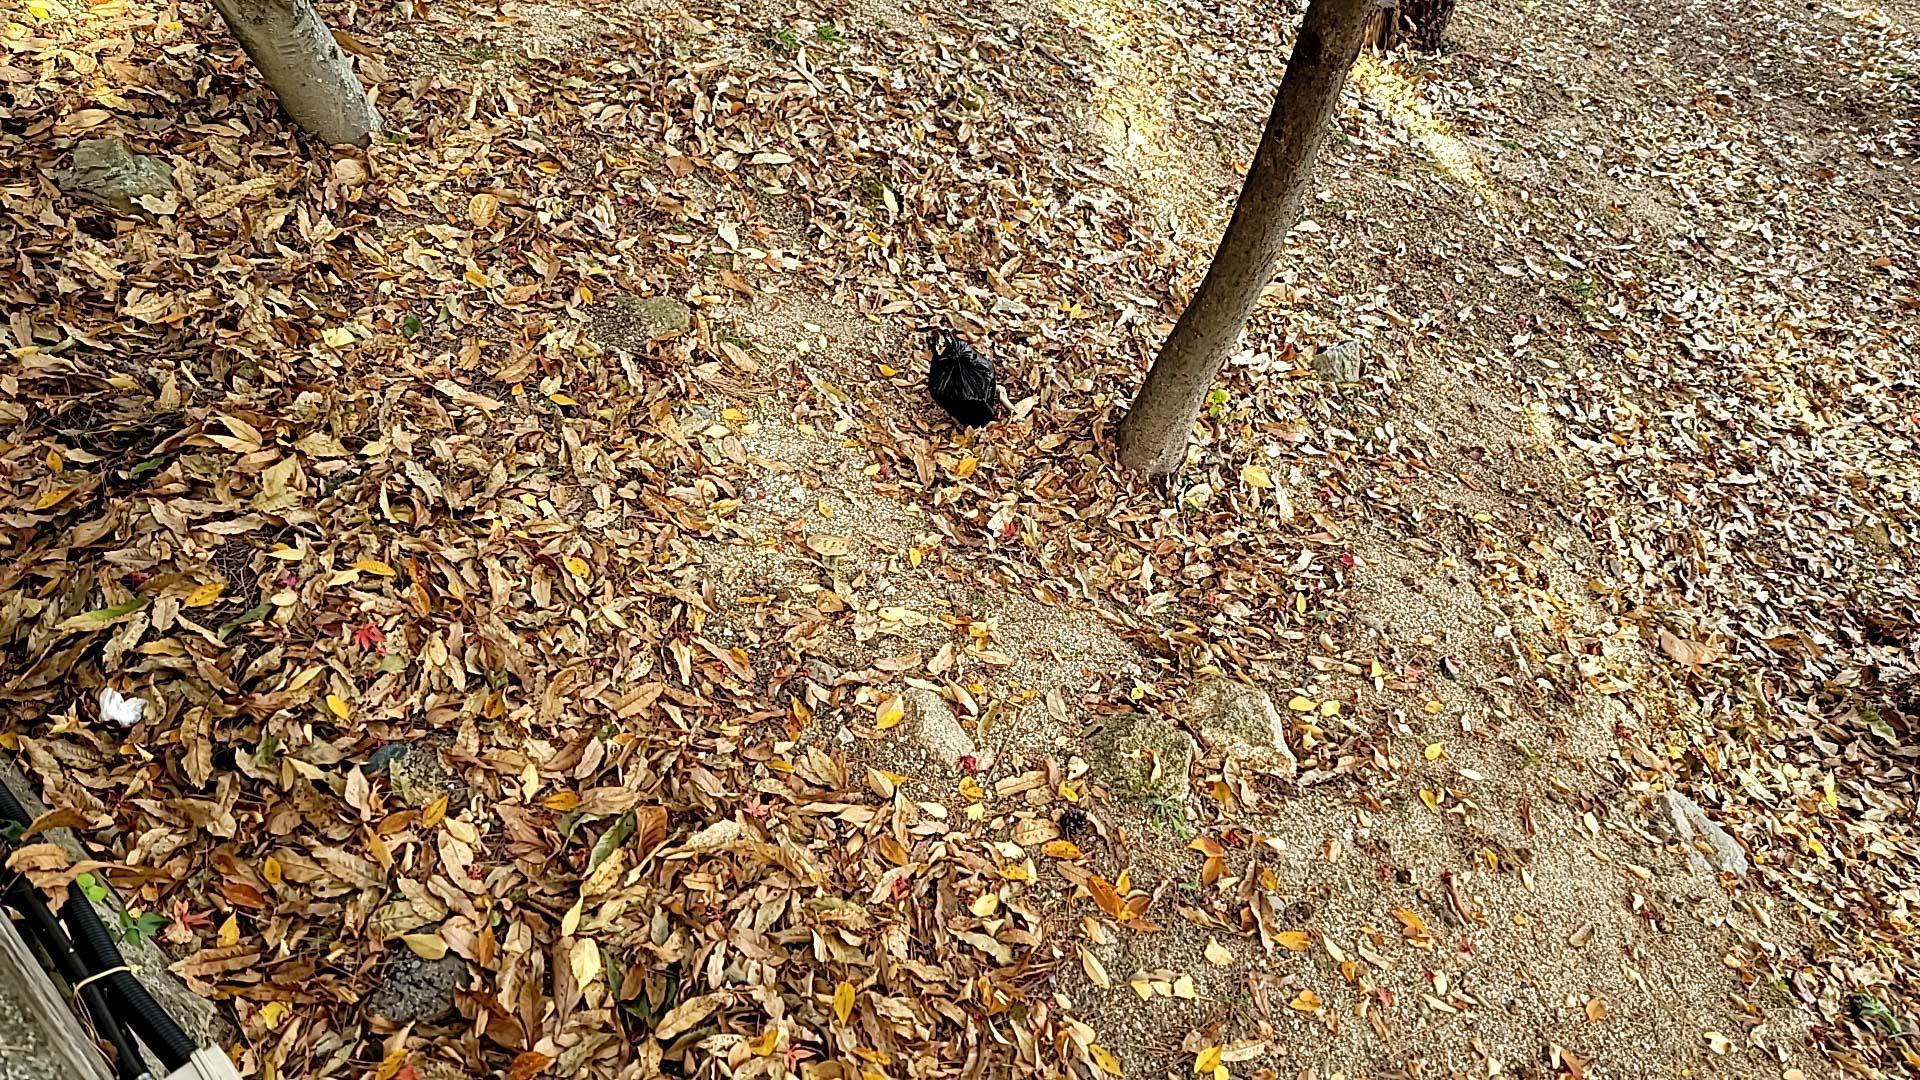black_bag: (923, 324, 1004, 429)
